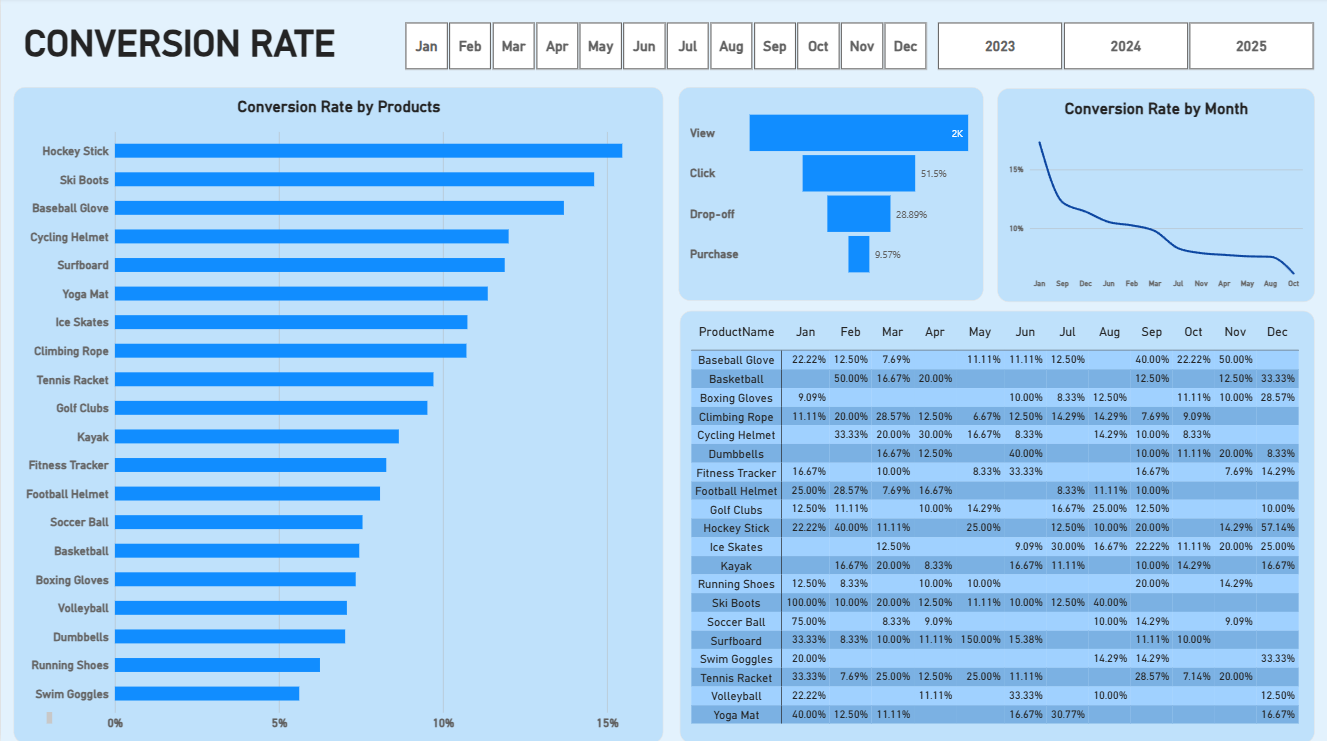

Layout of this report page (visuals, bound fields, positions):
{"tool":"powerbi","page":{"name":"Conversion","canvas":[1920,1080],"ordinal":1},"visuals":[{"type":"textbox","box":[18,36,506,72],"z":0},{"type":"lineChart","title":"Conversion Rate by Month","fields":{"Category":["Calendar.MonthNameShort"],"Y":["_Calculation_.Conversion Rate"]},"box":[1442.3,132.1,459.7,309.5],"z":1000},{"type":"barChart","title":"Conversion Rate by Products","fields":{"Category":["Facts_products.ProductName"],"Y":["_Calculation_.Conversion Rate"]},"box":[18.1,130.3,941,950.1],"z":2000},{"type":"slicer","fields":{"Values":["Calendar.Date.Variation.Date Hierarchy.Year"]},"box":[1335,35,584,72],"z":3000},{"type":"textbox","box":[18.1,1035.1,56.1,45.2],"z":4000},{"type":"funnel","title":"Conversion Rate by Products","fields":{"Category":["Fact_customer_journey.Action"],"Y":["_Calculation_.Number of customer journey"]},"box":[980.8,130.3,441.6,309.5],"z":5000},{"type":"slicer","fields":{"Values":["Calendar.Months"]},"box":[564.6,34.4,794.4,72.4],"z":6000},{"type":"pivotTable","title":"Conversion Rate by Month","fields":{"Columns":["Calendar.Months"],"Rows":["Facts_products.ProductName"],"Values":["_Calculation_.Conversion Rate"]},"box":[982,454,919.3,626.1],"z":7000}]}

Visuals, with their boxes in screenshot pixels (x1, y1, x2, y2), scaled from the page's 1920x1080 canvas onto the 1327x741 screenshot:
textbox: <bbox>12, 25, 362, 74</bbox>
"Conversion Rate by Month" lineChart: <bbox>997, 91, 1315, 303</bbox>
"Conversion Rate by Products" barChart: <bbox>13, 89, 663, 740</bbox>
slicer - Calendar.Date.Variation.Date Hierarchy.Year: <bbox>923, 24, 1326, 73</bbox>
textbox: <bbox>13, 710, 51, 740</bbox>
"Conversion Rate by Products" funnel: <bbox>678, 89, 983, 302</bbox>
slicer - Calendar.Months: <bbox>390, 24, 939, 73</bbox>
"Conversion Rate by Month" pivotTable: <bbox>679, 311, 1314, 740</bbox>
